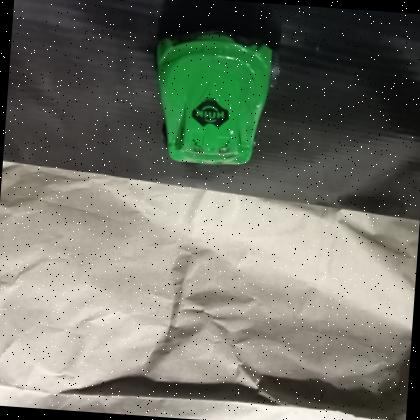Car: (144, 20, 289, 175)
